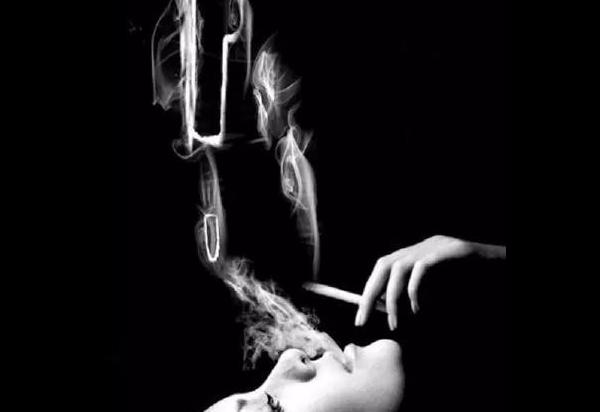Cigarette: (310, 282, 387, 315)
Smoke: (159, 0, 241, 262), (251, 46, 318, 253), (226, 265, 344, 364)
